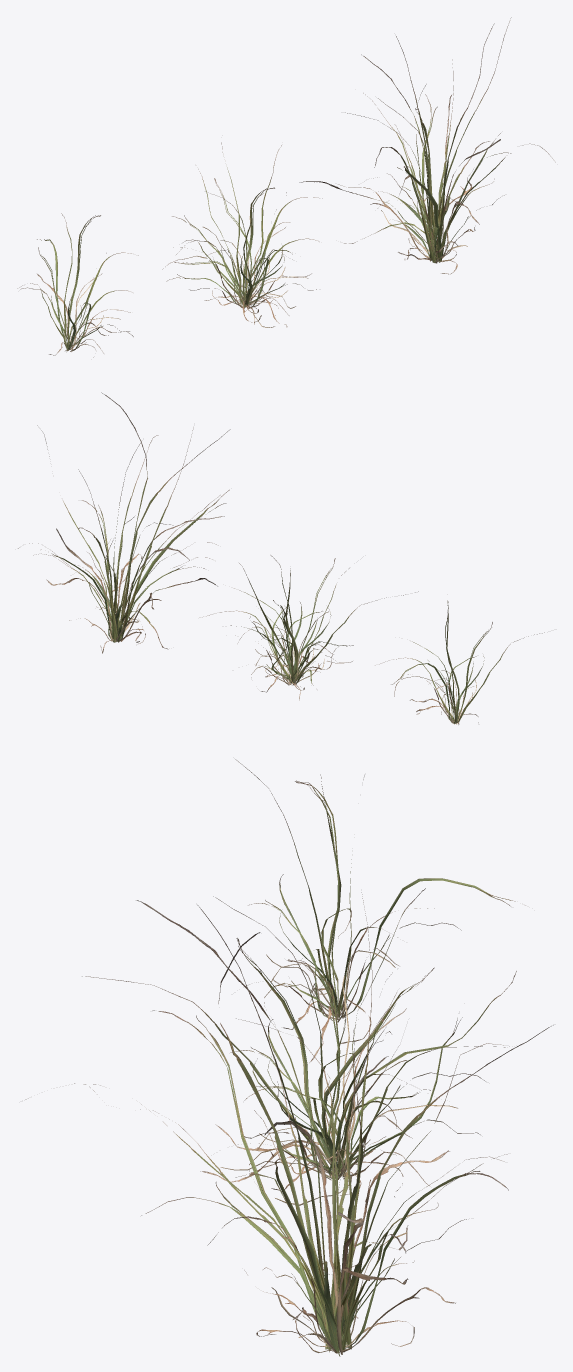
Rendered from grass_medium_02.glb.
3 renders of one model, top to bottom at view 1: azimuth 30°, elevation 25°; view 2: azimuth 150°, elevation 25°; view 3: azimuth 270°, elevation 25°, orthographic. The views are drawn at different scales.
Parts seen in each view (by area): view 1: grass_medium_02; view 2: grass_medium_02; view 3: grass_medium_02.
Part boxes in pixels (x1=…): grass_medium_02: x1=17, y1=17, x2=555, y2=357; grass_medium_02: x1=18, y1=392, x2=544, y2=724; grass_medium_02: x1=25, y1=759, x2=553, y2=1356.
Size of the model in its own units: 0.9057 by 0.4053 by 0.4332.
Materials: 1 (1 with a texture image).
